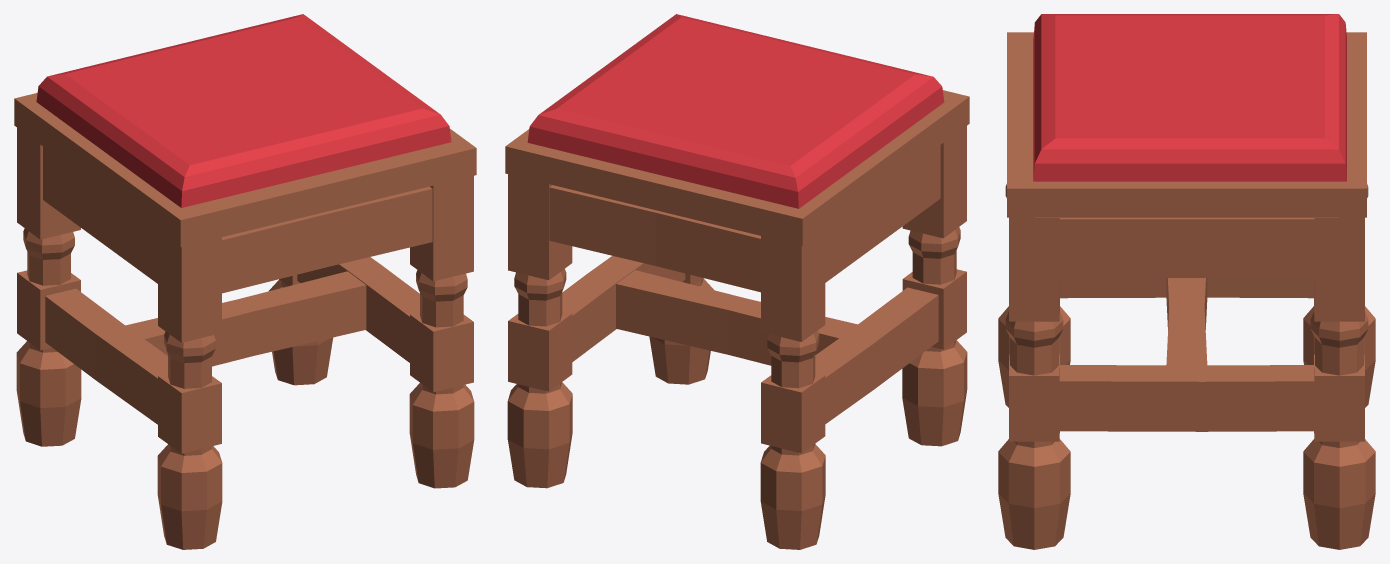
File: Chair 04.fbx
3 views of the same model, side by side, from view 1: azimuth 30°, elevation 25°; view 2: azimuth 150°, elevation 25°; view 3: azimuth 270°, elevation 25° (orthographic). The views are drawn at different scales.
Visible parts, largest first — view 1: Chair 04; view 2: Chair 04; view 3: Chair 04.
Part boxes in pixels (box(x1,y1,x2,y2)): Chair 04: box(14, 14, 476, 549); Chair 04: box(505, 14, 969, 549); Chair 04: box(998, 14, 1375, 549).
Bounding box in the file's own units: 39.59 × 44.46 × 38.6.
